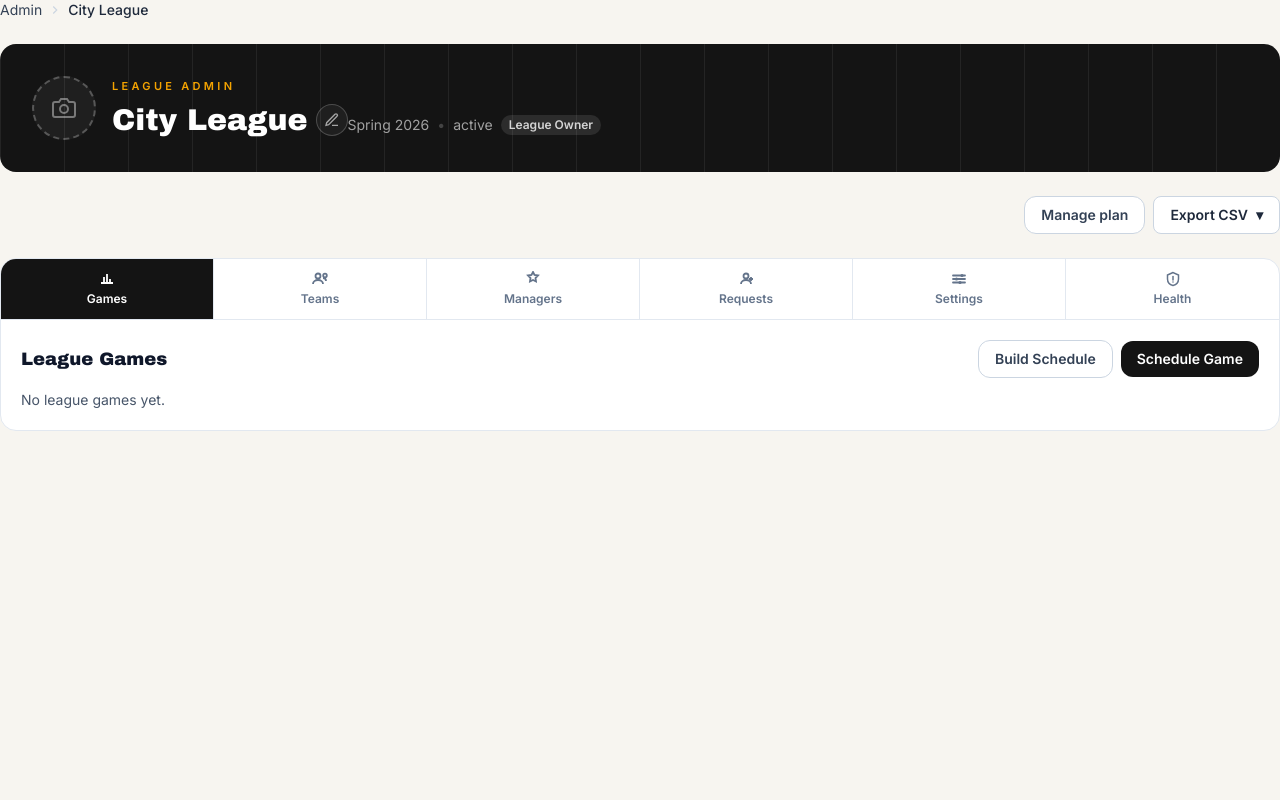
AdminLeaguePage › shows team managers grouped by team for league owners
// Managers live under the Managers tab (default tab is Games).
What coordinates should you click on to do the following:
click the tab "Managers"
I would click on:
 (534, 289)
Its box is [427,259,640,319].
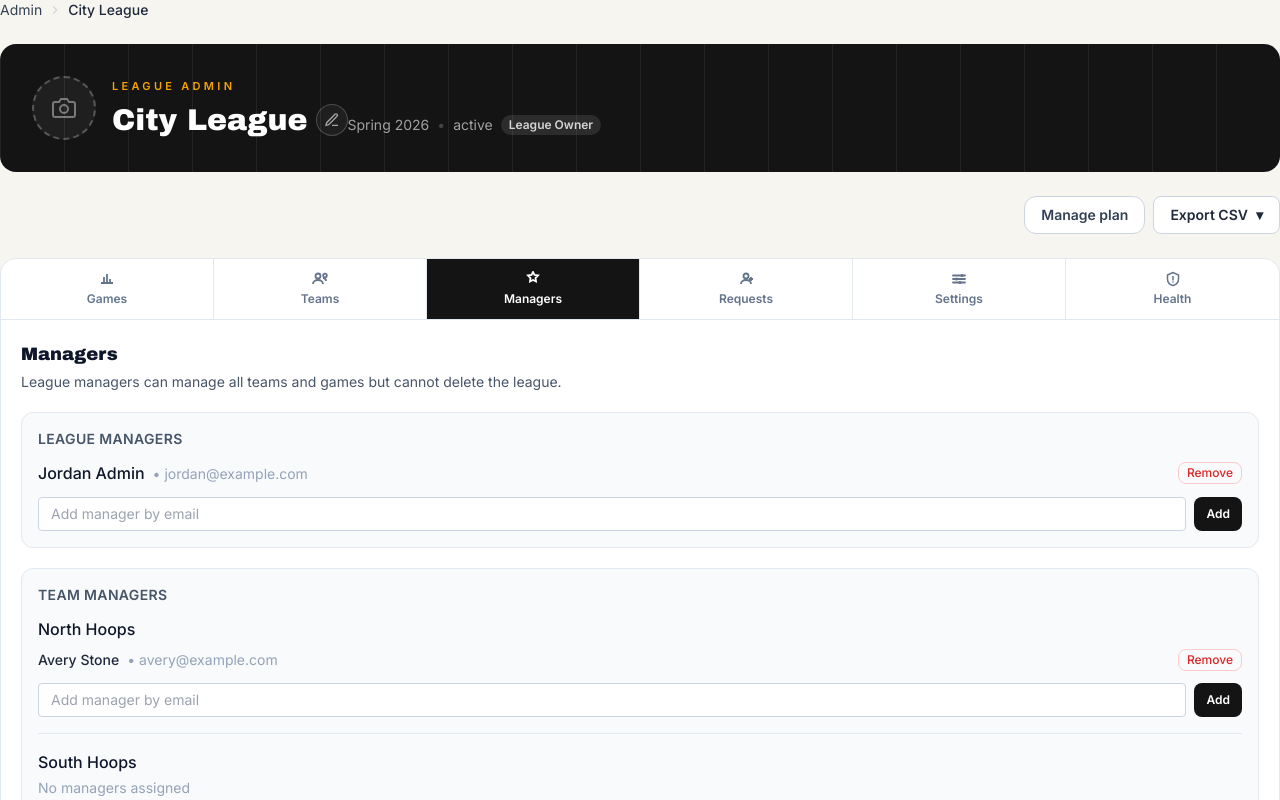
Expected: the heading "League Managers" is shown, [38,430,183,447]
Expected: the text "Jordan Admin" is shown, [38,463,145,483]
Expected: the text "• jordan@example.com" is shown, [153,465,308,482]
